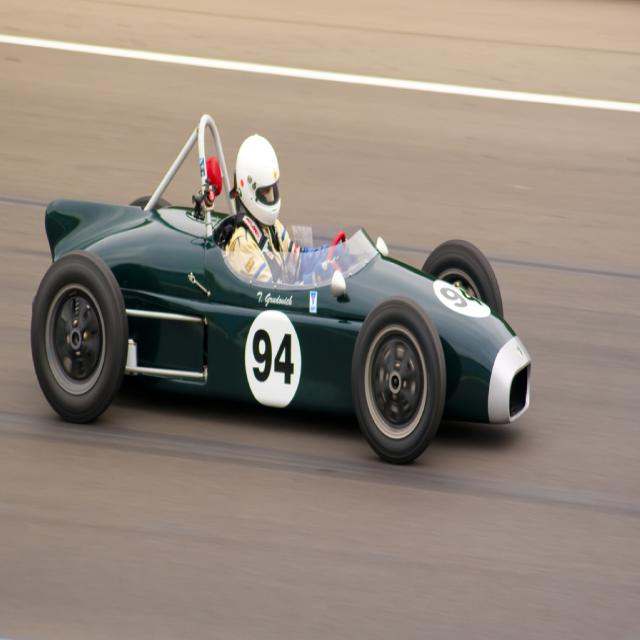car: (16, 124, 548, 442)
